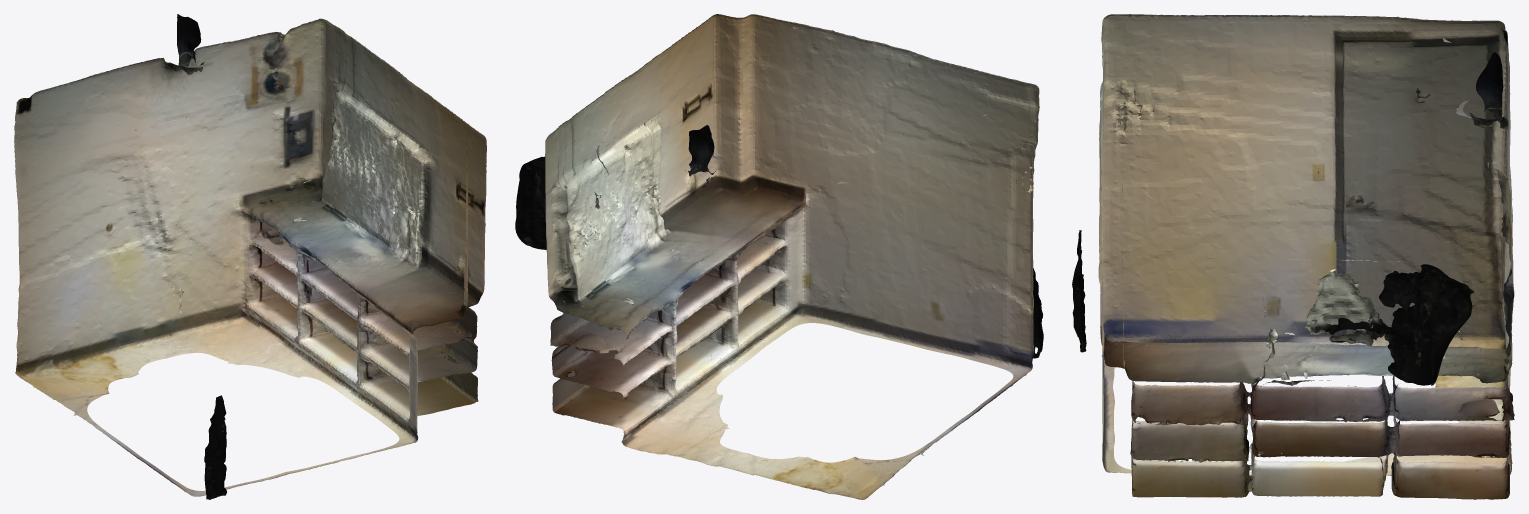
Rendered from lab-scan.glb.
3 views of the same model, side by side, from view 1: azimuth 30°, elevation 25°; view 2: azimuth 150°, elevation 25°; view 3: azimuth 270°, elevation 25° (orthographic). The views are drawn at different scales.
Bounding box in the file's own units: 3.17 × 2.7 × 2.81.
Materials: 2 (2 with a texture image).
